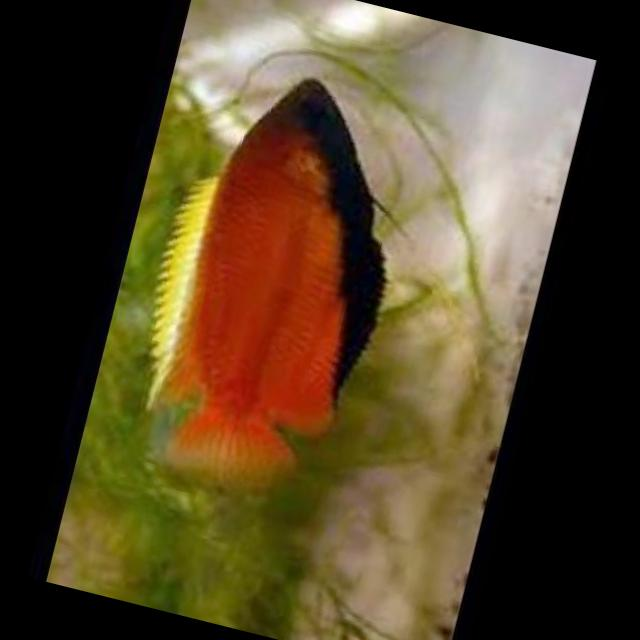Gourami: (106, 49, 432, 514)
